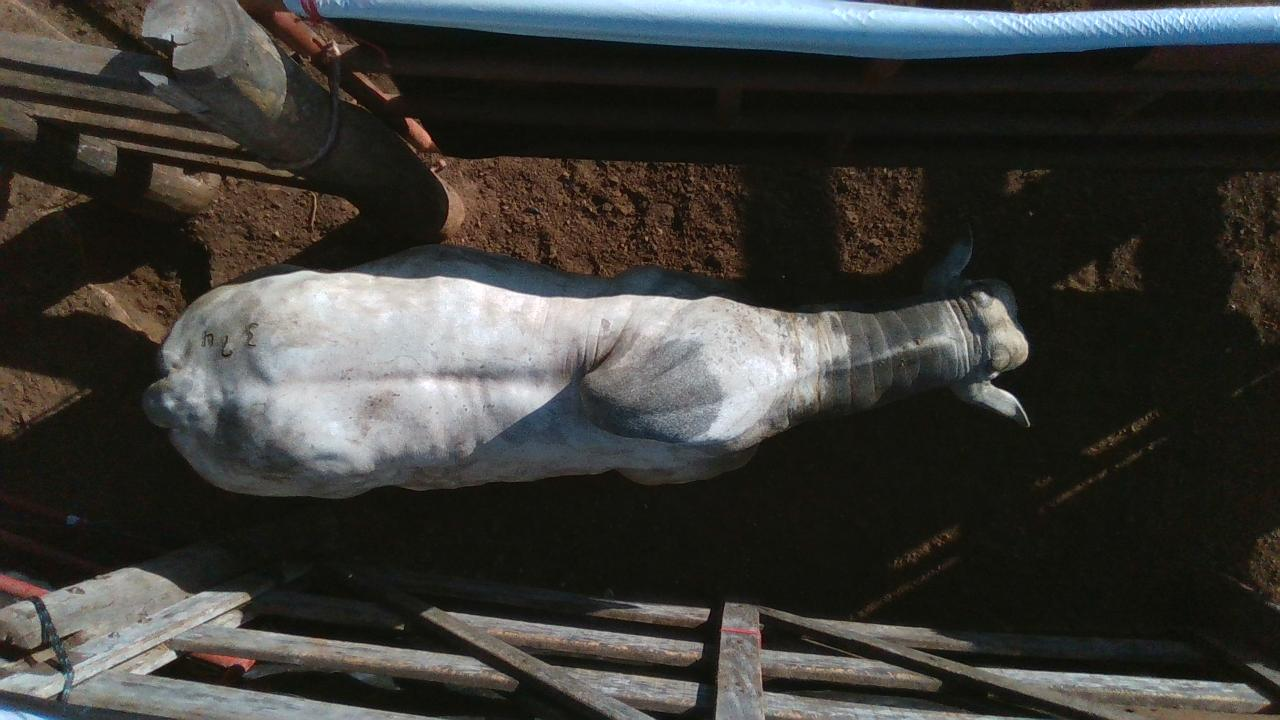cattle: (141, 224, 1033, 500)
